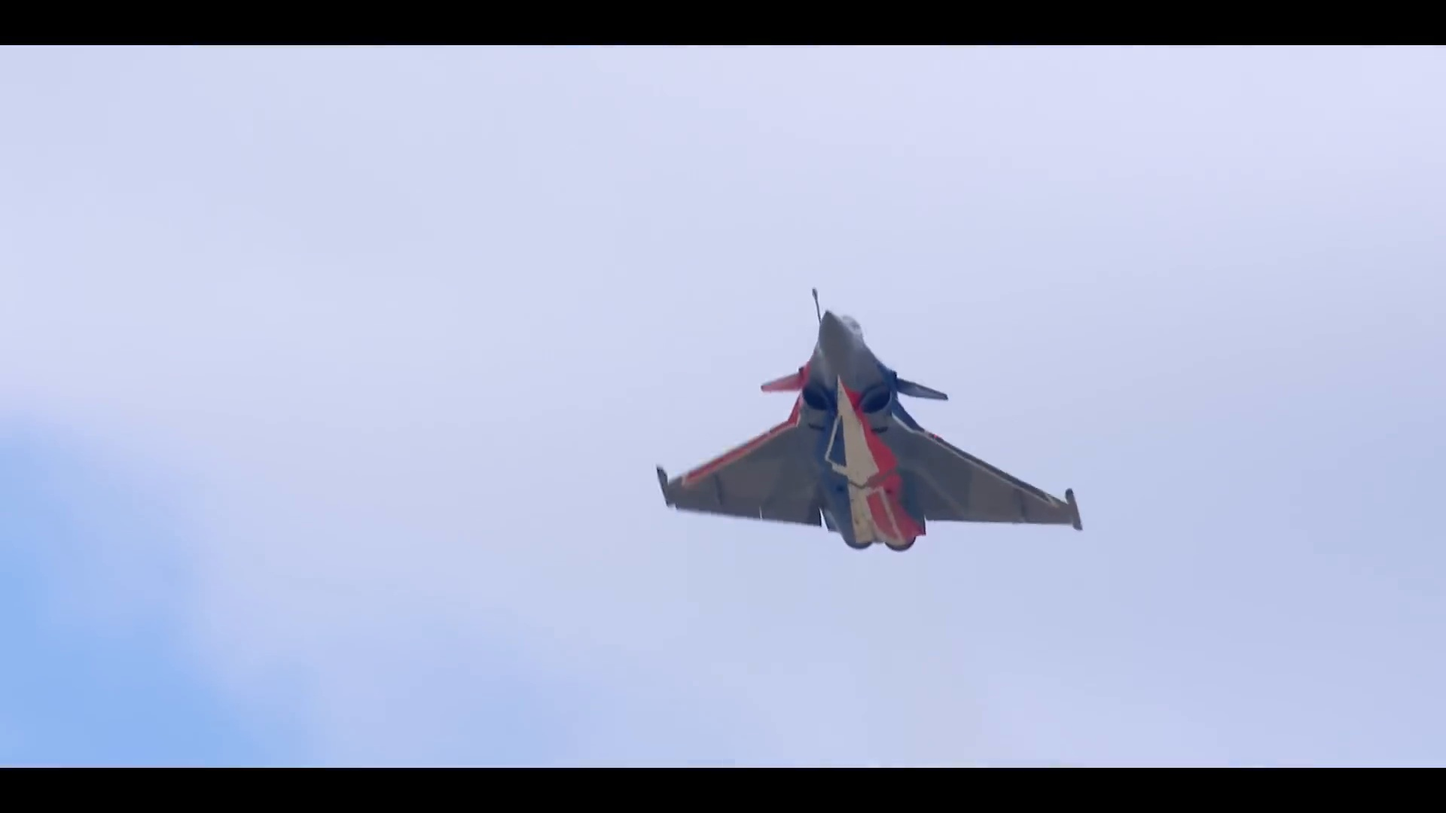Rafale: (649, 290, 1082, 555)
